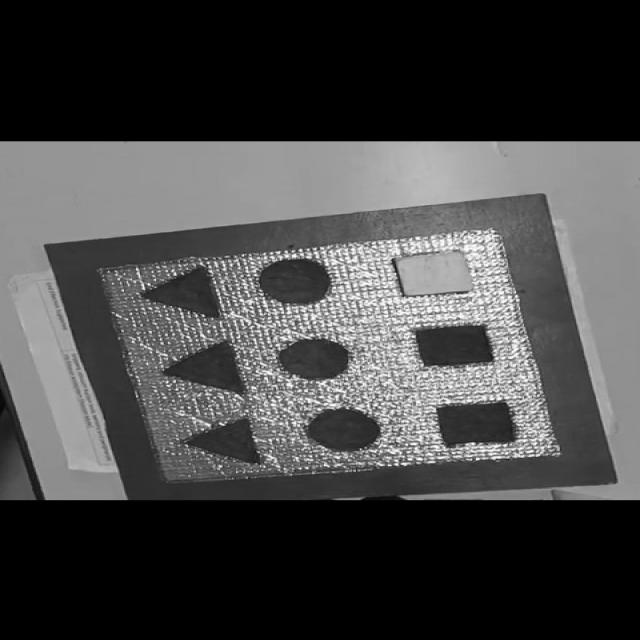mtcircle: (257, 258, 332, 304), (306, 407, 382, 450), (276, 337, 352, 379)
mtcube: (434, 400, 518, 447), (412, 324, 498, 367)
mttriangle: (162, 340, 248, 396), (141, 265, 224, 318), (183, 416, 263, 464)
wb: (98, 228, 560, 486)
ycube: (392, 249, 477, 297)
